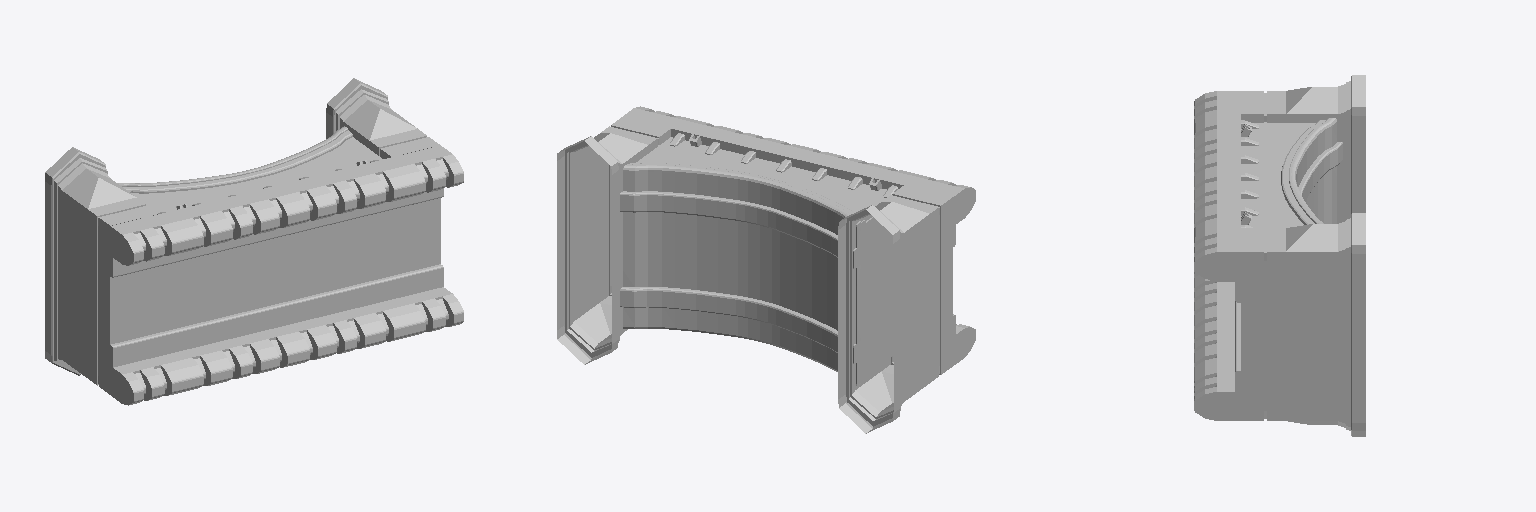
Rendered from StoneBridge.obj.
3 views of the same model, side by side, from view 1: azimuth 30°, elevation 25°; view 2: azimuth 150°, elevation 25°; view 3: azimuth 270°, elevation 25° (orthographic).
Parts seen in each view (by area): view 1: Bridge, Right_Pillar, Left_Pillar; view 2: Bridge, Right_Pillar, Left_Pillar; view 3: Left_Pillar, Bridge, Right_Pillar.
Part boxes in pixels (bbox=[...]): Bridge: bbox=[112, 126, 415, 393]; Right_Pillar: bbox=[45, 147, 181, 405]; Left_Pillar: bbox=[326, 78, 463, 335]; Bridge: bbox=[620, 118, 921, 385]; Right_Pillar: bbox=[838, 175, 975, 433]; Left_Pillar: bbox=[557, 106, 687, 364]; Left_Pillar: bbox=[1194, 213, 1365, 436]; Bridge: bbox=[1194, 114, 1342, 377]; Right_Pillar: bbox=[1194, 75, 1365, 223].
Bounding box in the file's own units: 6.93 × 4.4 × 3.06.